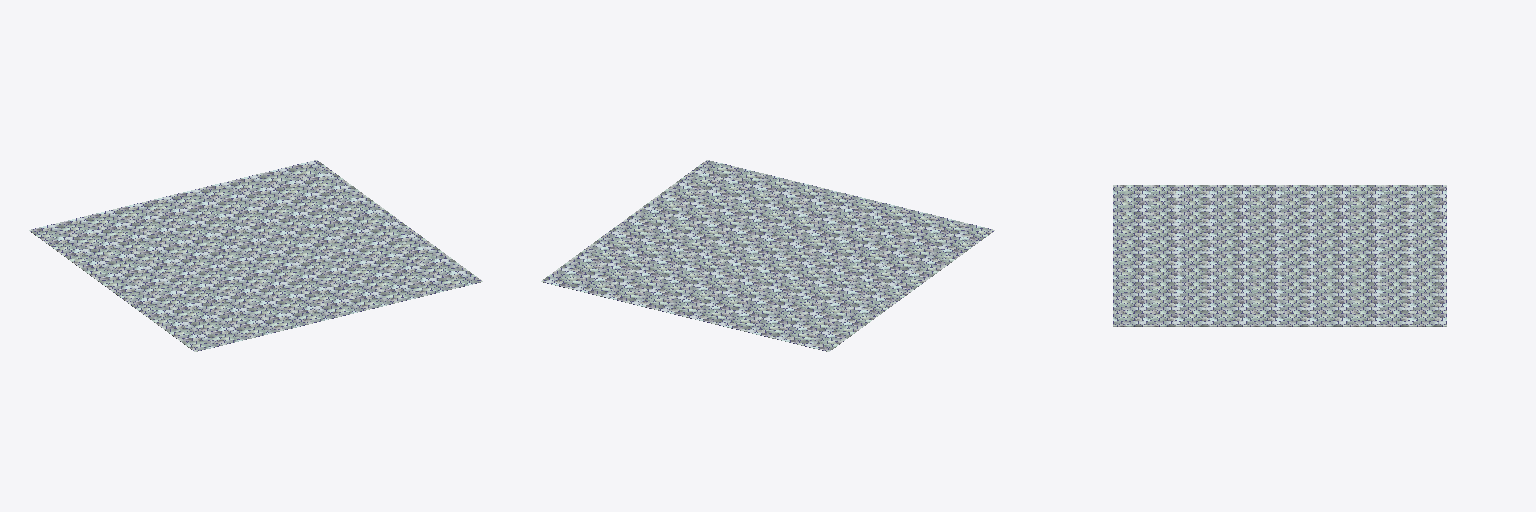
3 views of the same model, side by side, from view 1: azimuth 30°, elevation 25°; view 2: azimuth 150°, elevation 25°; view 3: azimuth 270°, elevation 25° (orthographic).
Visible parts, largest first — view 1: Box001; view 2: Box001; view 3: Box001.
Boxes of the visible parts, box(x1,y1,x2,y2) form: Box001: box(29, 160, 482, 351); Box001: box(541, 160, 994, 351); Box001: box(1113, 185, 1446, 326).
Bounding box in the file's own units: 10 × 0.01 × 10.
Materials: 1 (1 with a texture image).